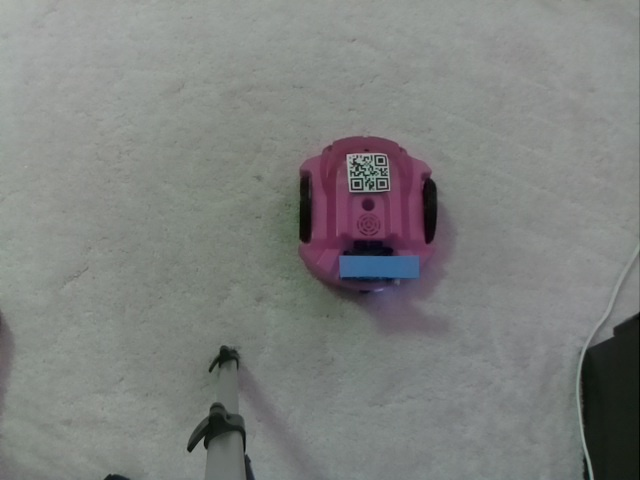chassis: (293, 135, 439, 298)
qr: (345, 151, 394, 197)
